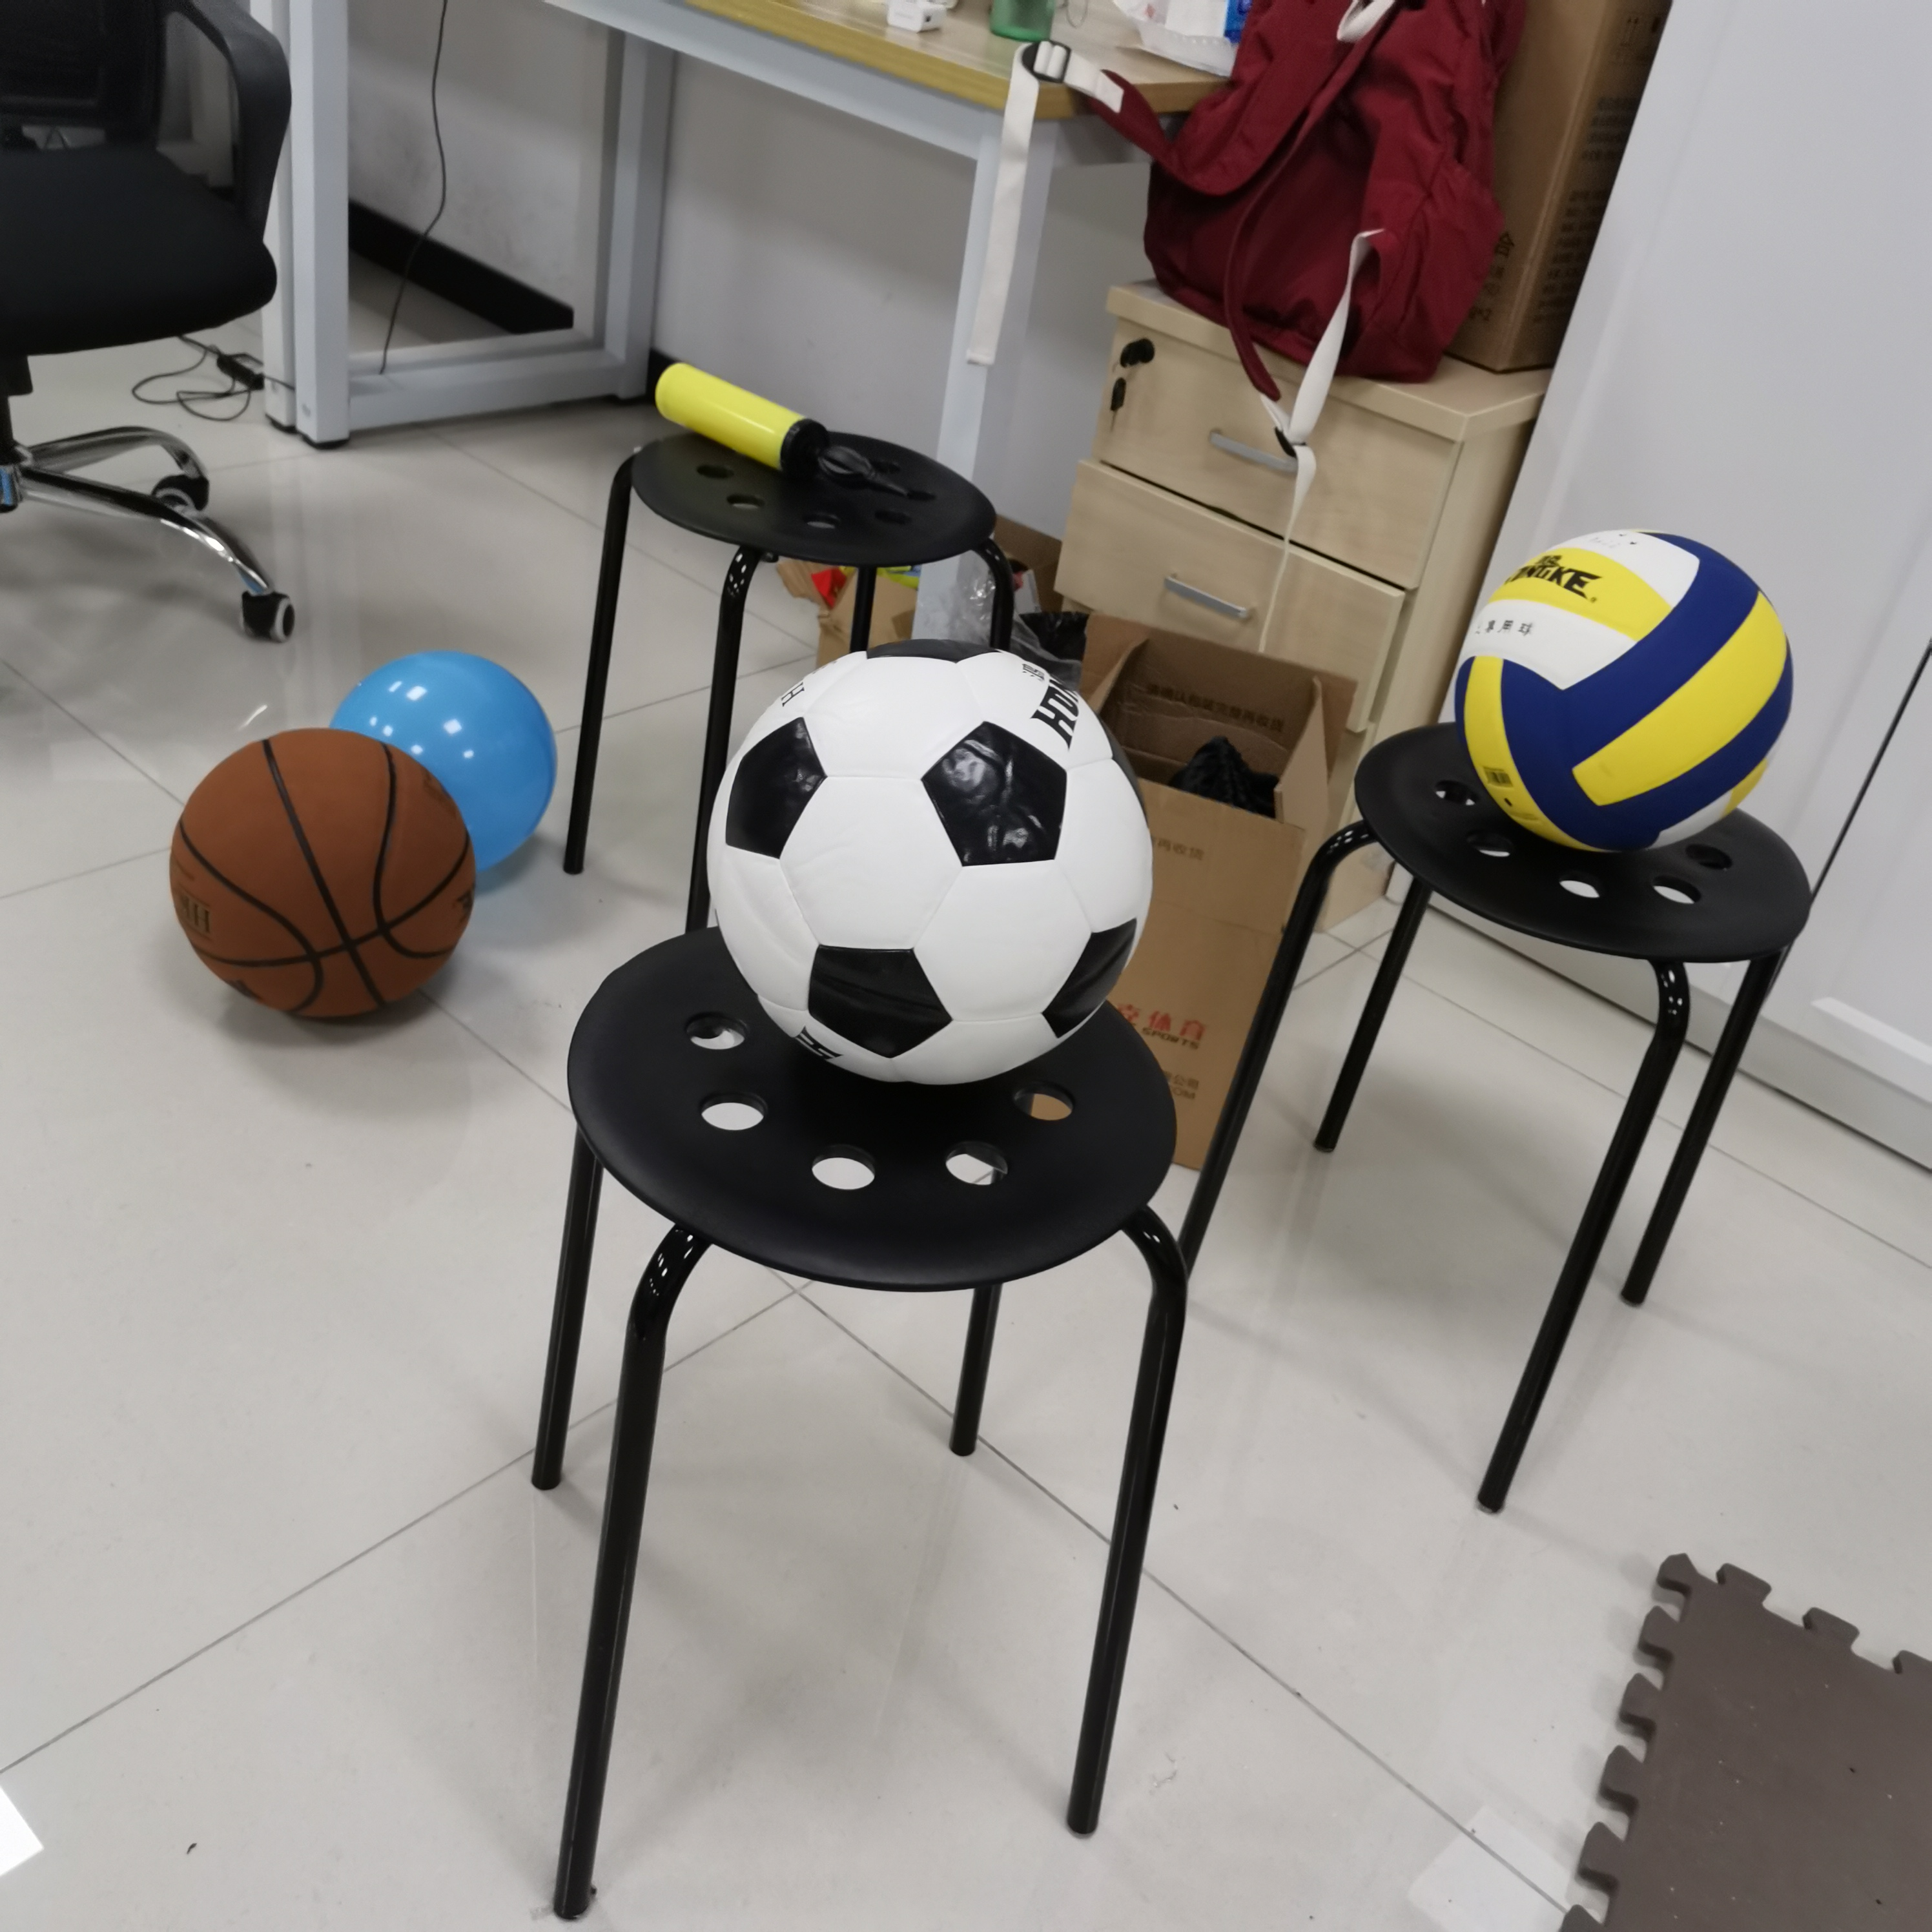balloon: (400, 651, 557, 863)
basketball: (168, 729, 478, 1019)
football: (706, 639, 1152, 1086)
volleyball: (1458, 529, 1794, 855)
